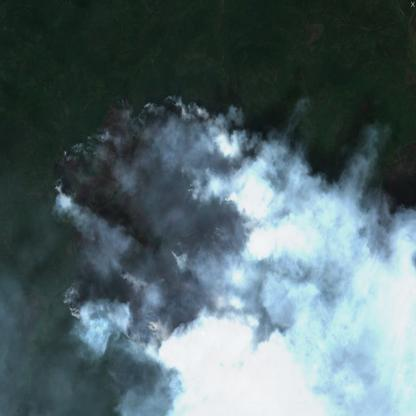fire: (54, 88, 258, 404)
